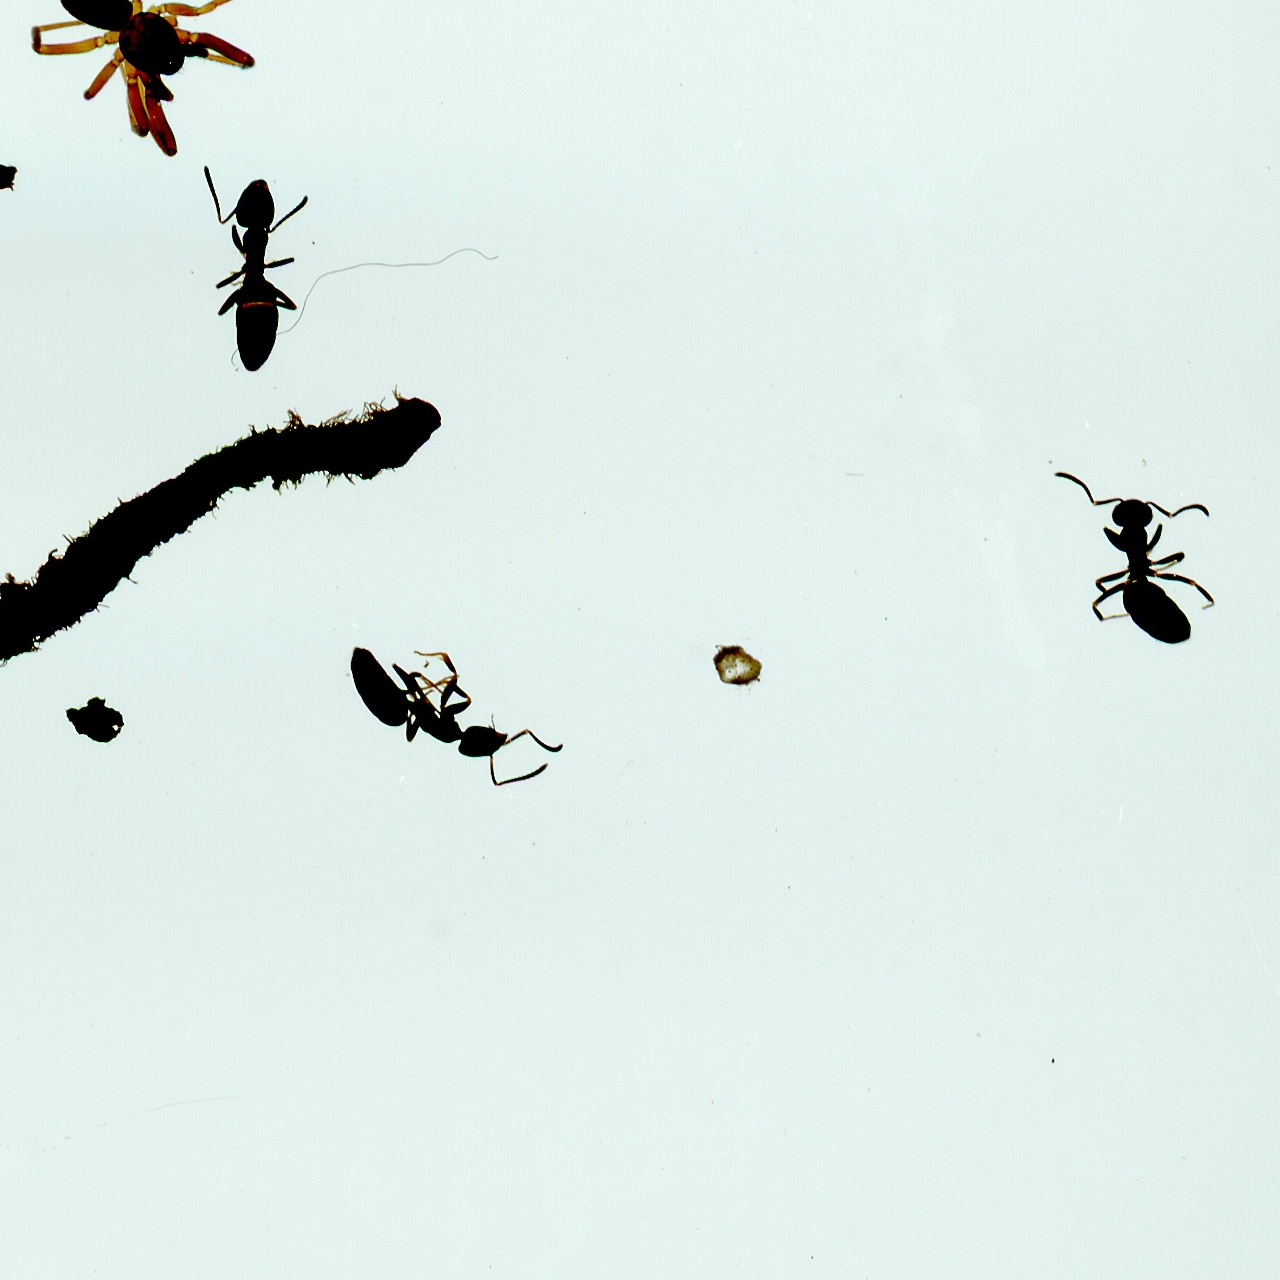arthropod: (1002, 396, 1235, 672), (316, 615, 571, 813), (29, 0, 259, 161), (196, 163, 312, 379)
